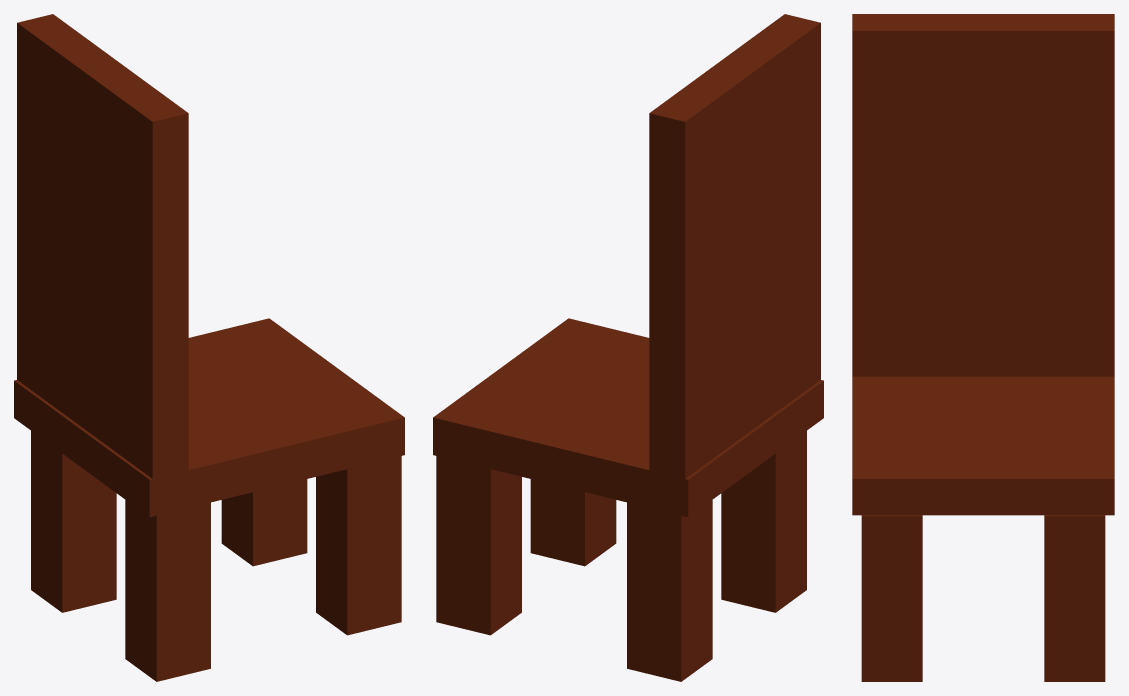
Rendered from Chair.glb.
The picture shows the model from 3 angles, left to right: view 1: azimuth 30°, elevation 25°; view 2: azimuth 150°, elevation 25°; view 3: azimuth 270°, elevation 25°; orthographic projection. The views are drawn at different scales.
Visible parts, largest first — view 1: Chair; view 2: Chair; view 3: Chair.
Part boxes in pixels (box(x1,y1,x2,y2)): Chair: box(14, 14, 404, 681); Chair: box(433, 14, 823, 681); Chair: box(852, 14, 1114, 681).
Size of the model in its own units: 9.44 by 19.85 by 8.62.
